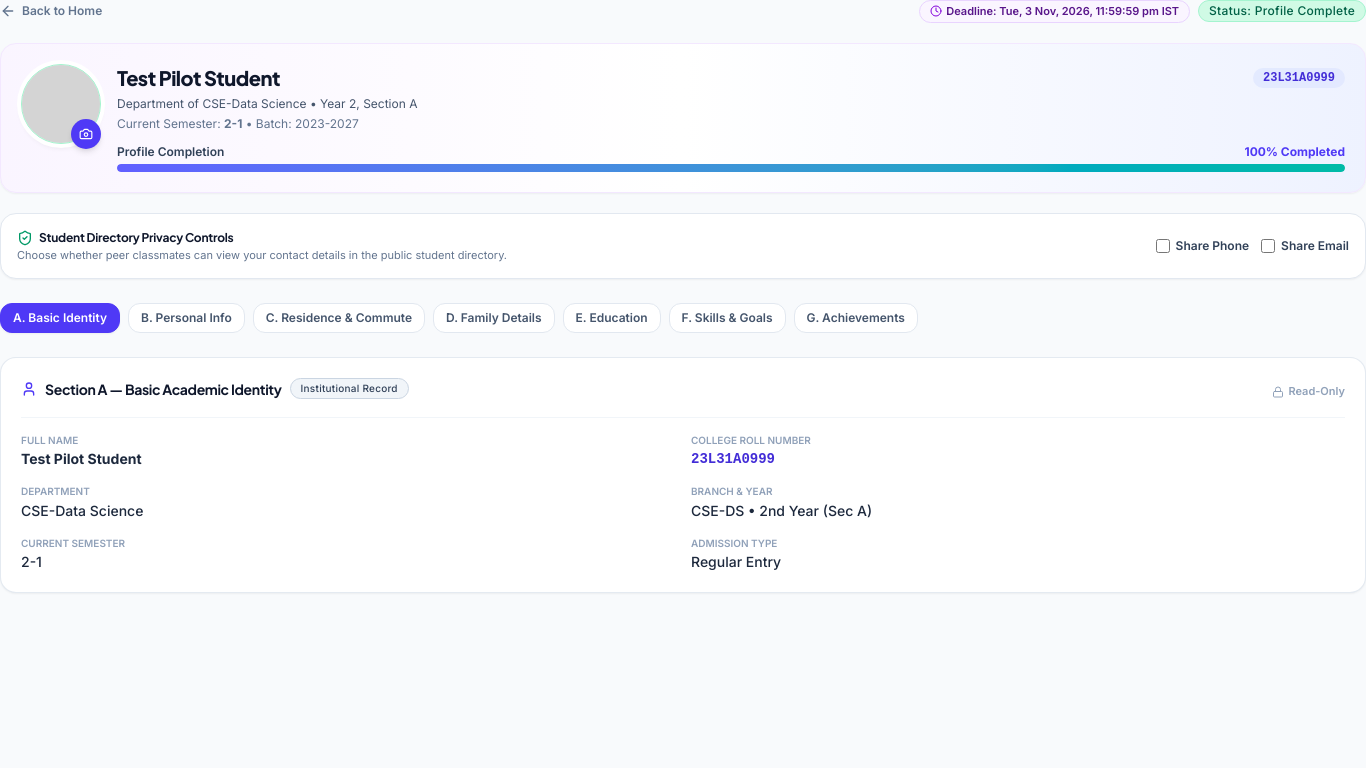
Scenario: Mentor Connect — Simplified Student Profile & Sections F and G › 5. Section G provides repeatable fields for achievements with Add, Edit, and Remove options
Note: Switch to Tab G
Click the tab "G. Achievements": (856, 318) [794,303,918,333]
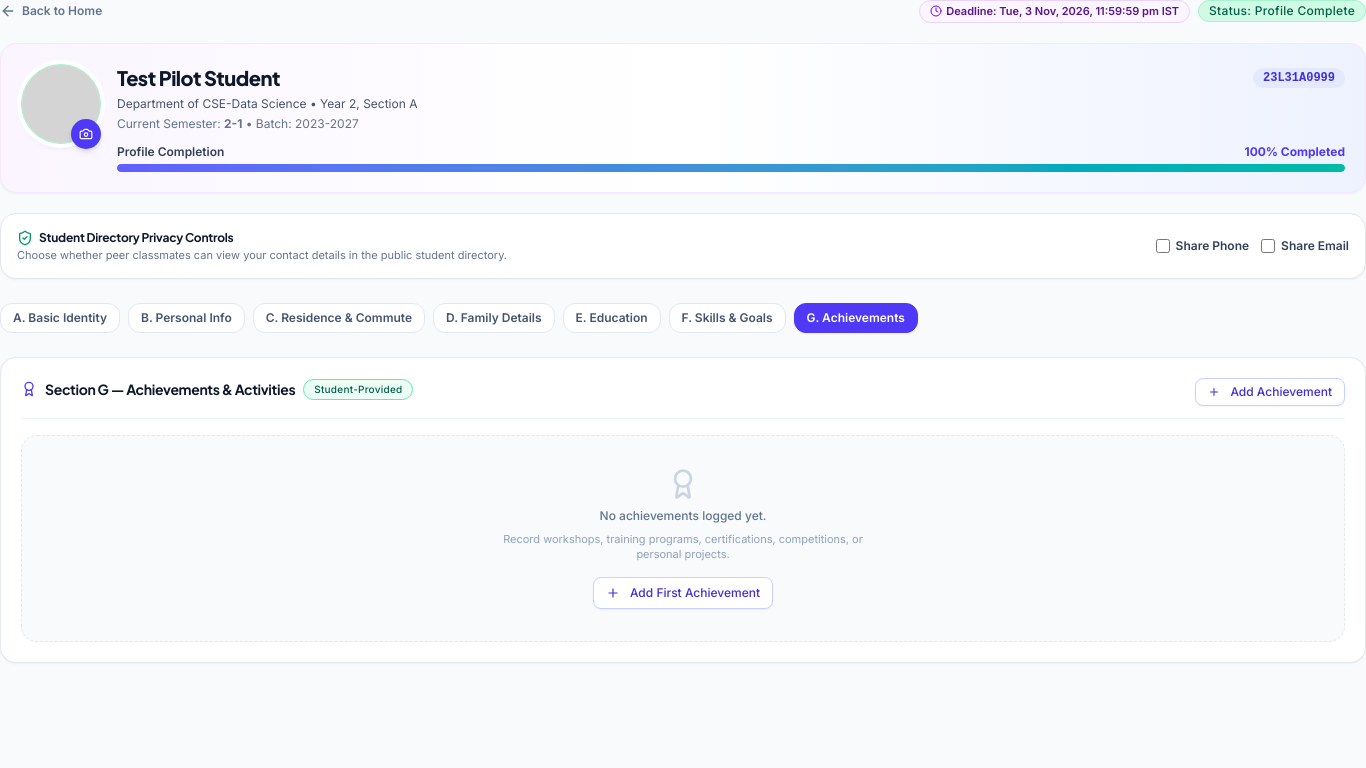
Check: the heading "Section G — Achievements & Activities" is shown, box [21,379,295,399]
Check: the button "Add Achievement" is shown
Note: Open Add Achievement Modal
Click the button "Add Achievement": (1270, 392) [1195,378,1345,406]
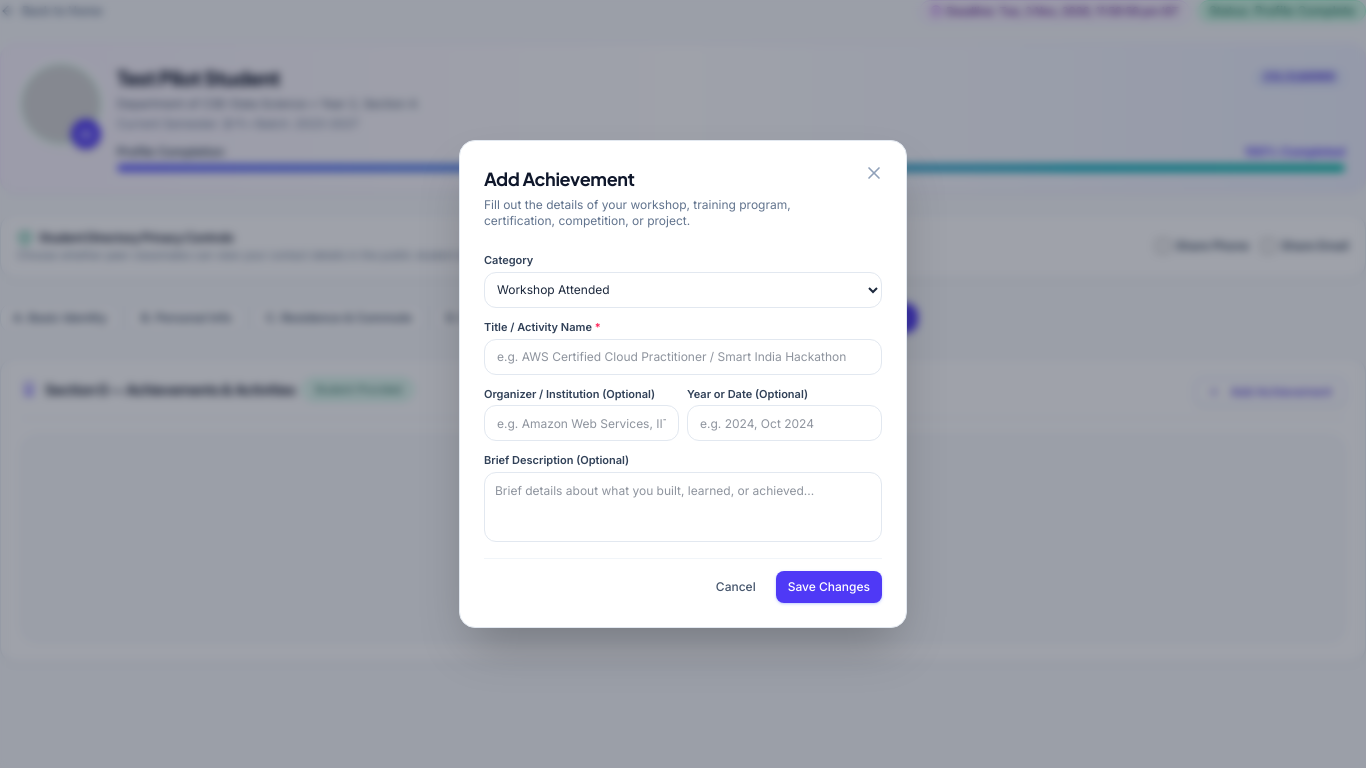
Note: Fill title
Replace the text in the field with placeholder "AWS Certified Cloud Practitioner" with "AWS Certified Solutions Architect": (683, 356) [484,338,882,374]
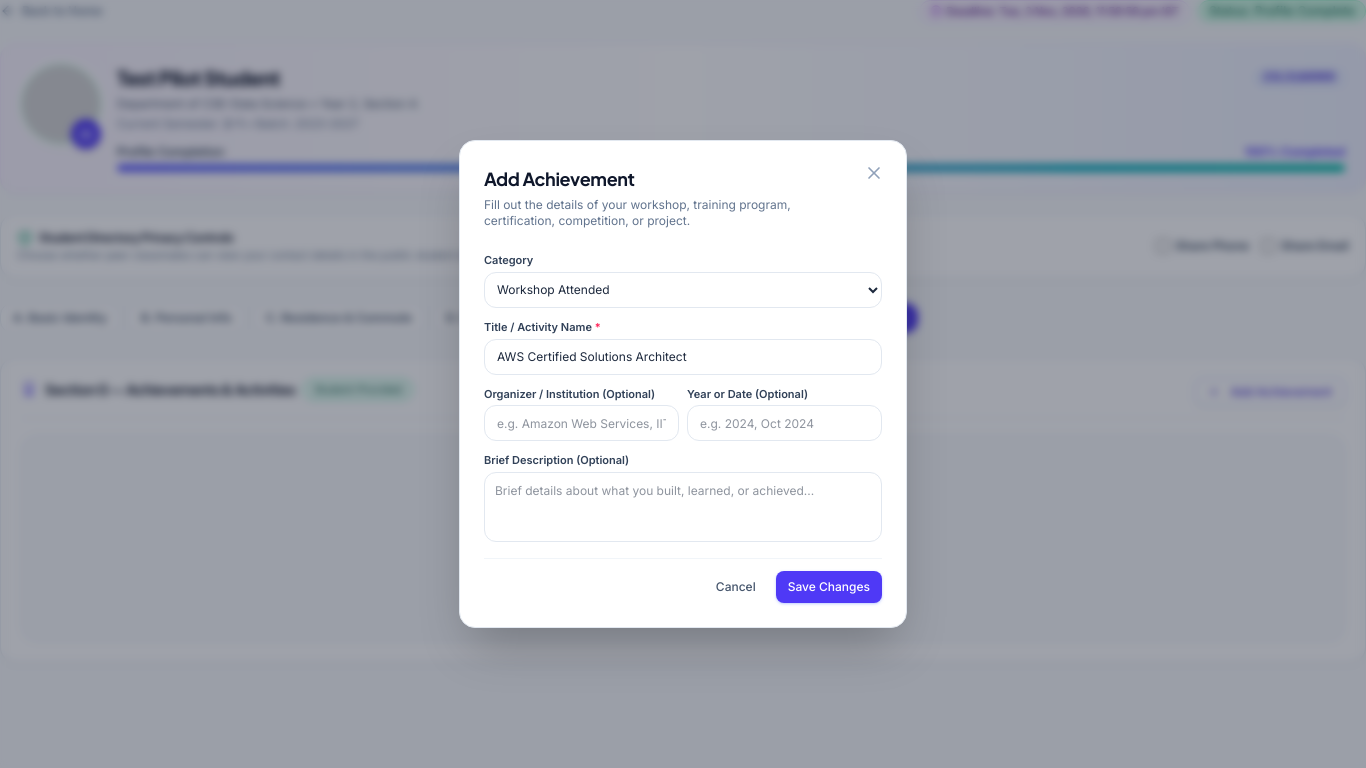
Note: Save Changes
Click the button "Save Changes": (829, 587) [776,571,882,603]
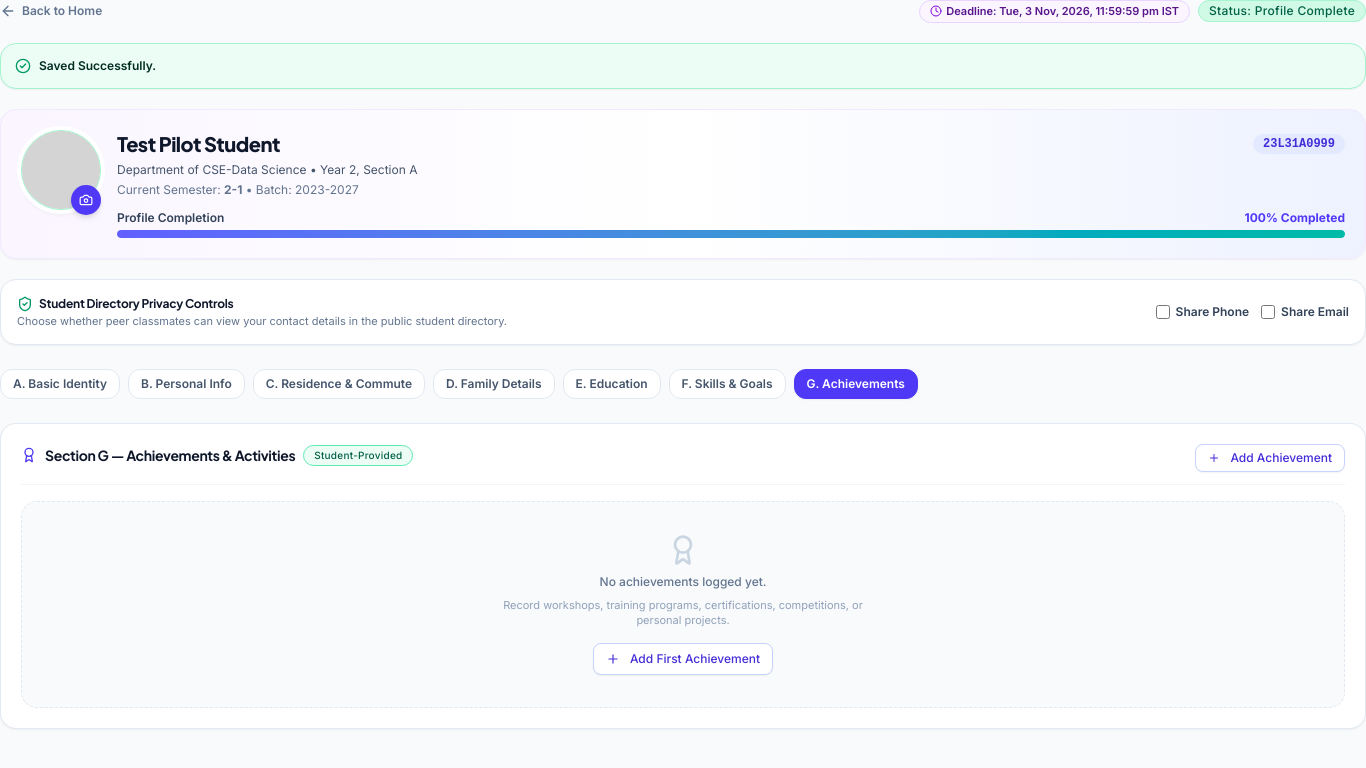
Check: the text "Saved Successfully." is shown, box [39,58,156,74]
